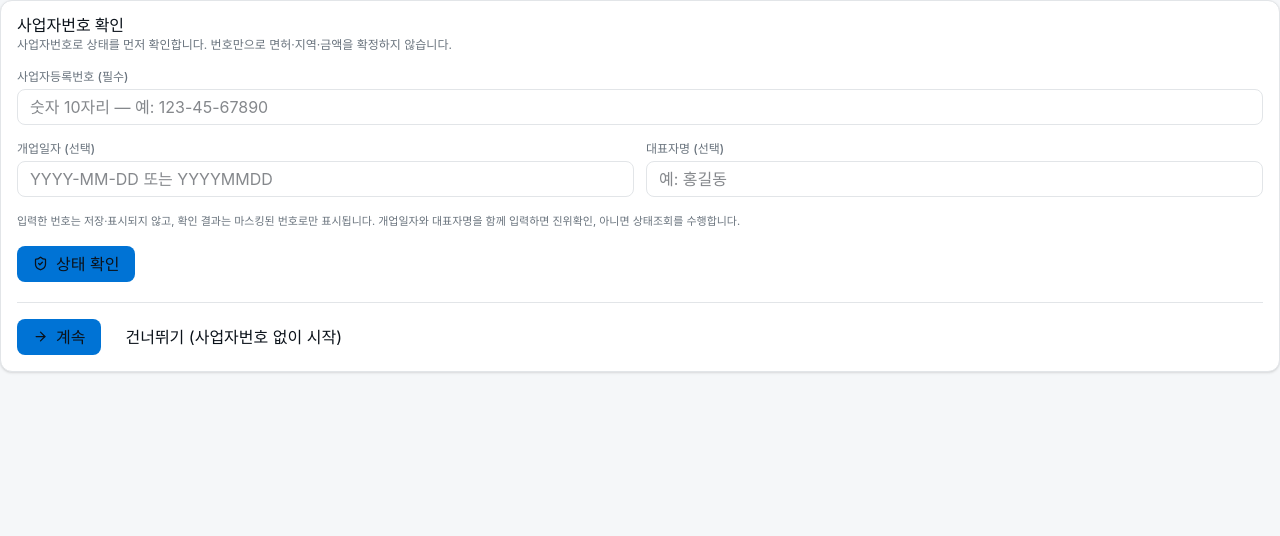
Test: BusinessStep › verified 응답은 masked 번호와 성공 표시를 노출하고, 입력한 원문을 확정값으로 재노출하지 않는다
The image size is (1280, 536).
Type "111-22-23333" into the field labelled "사업자등록번호 (필수)" at [640, 107], box [17,89,1263,125]
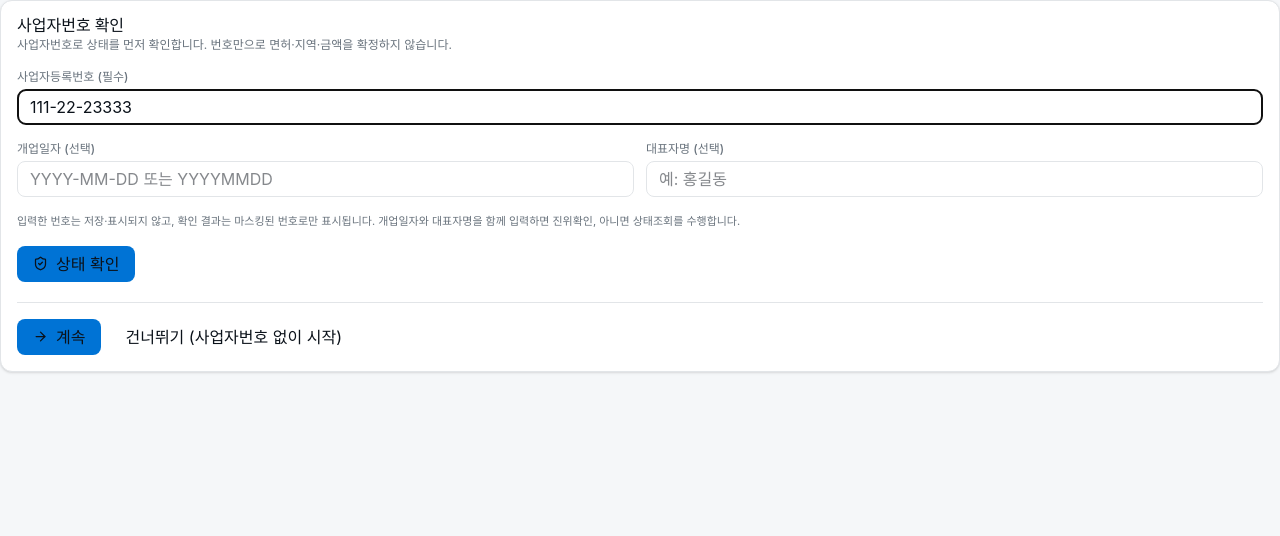
Click the button "상태 확인" at [76, 264], box [17,246,135,282]
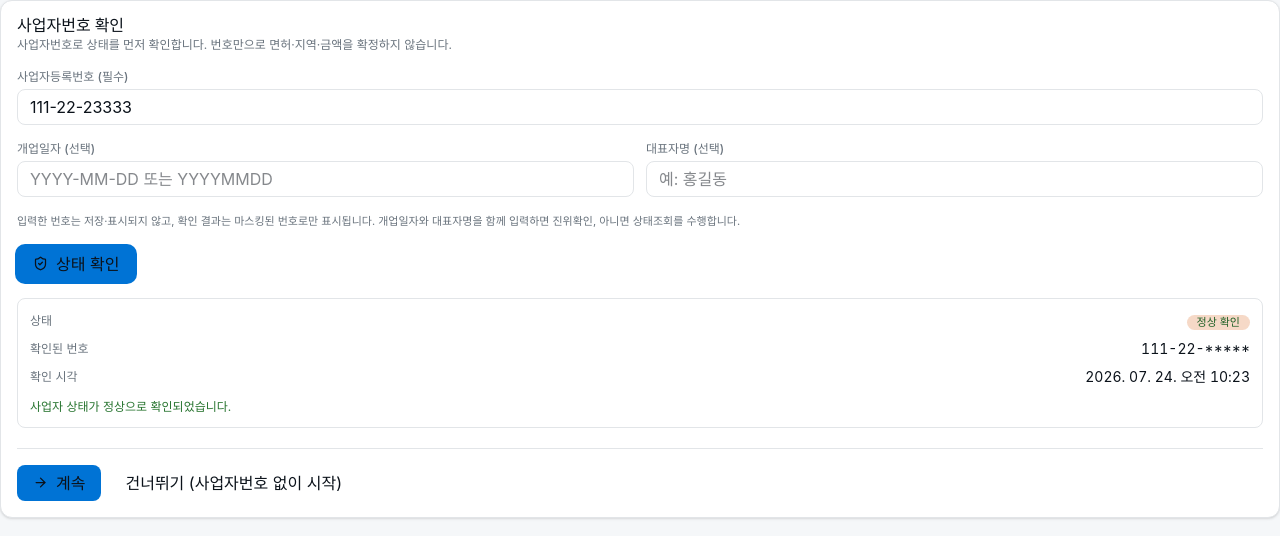
Now the text "111-22-*****" is shown, box [1141,338,1250,358]
Now the text "정상 확인" is shown, box [1187,314,1250,330]
Now the text "사업자 상태가 정상으로 확인되었습니다." is shown, box [30,398,231,414]
